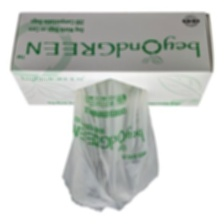book: (5, 6, 217, 113)
tissue: (57, 75, 163, 217)
